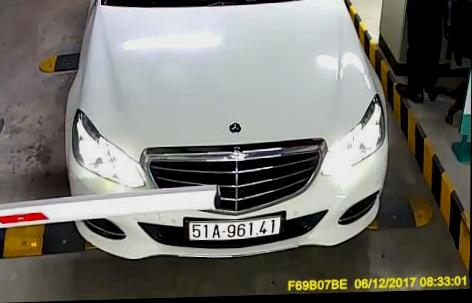License_Plate: (187, 214, 281, 243)
